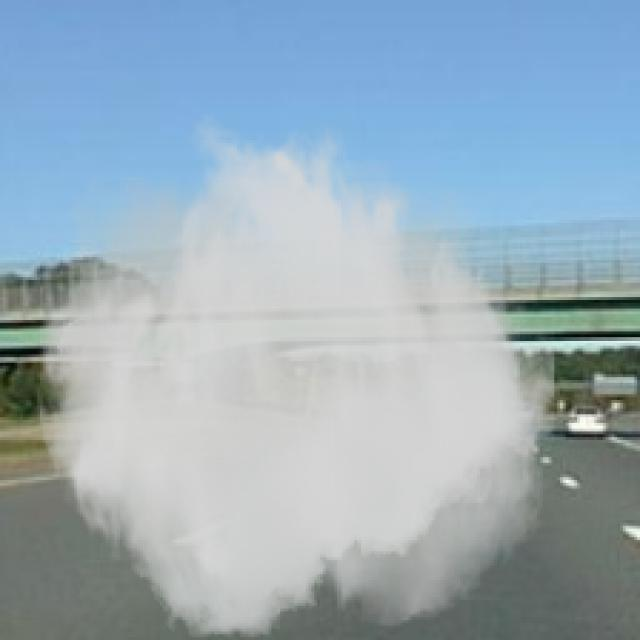smoke: (32, 112, 554, 637)
